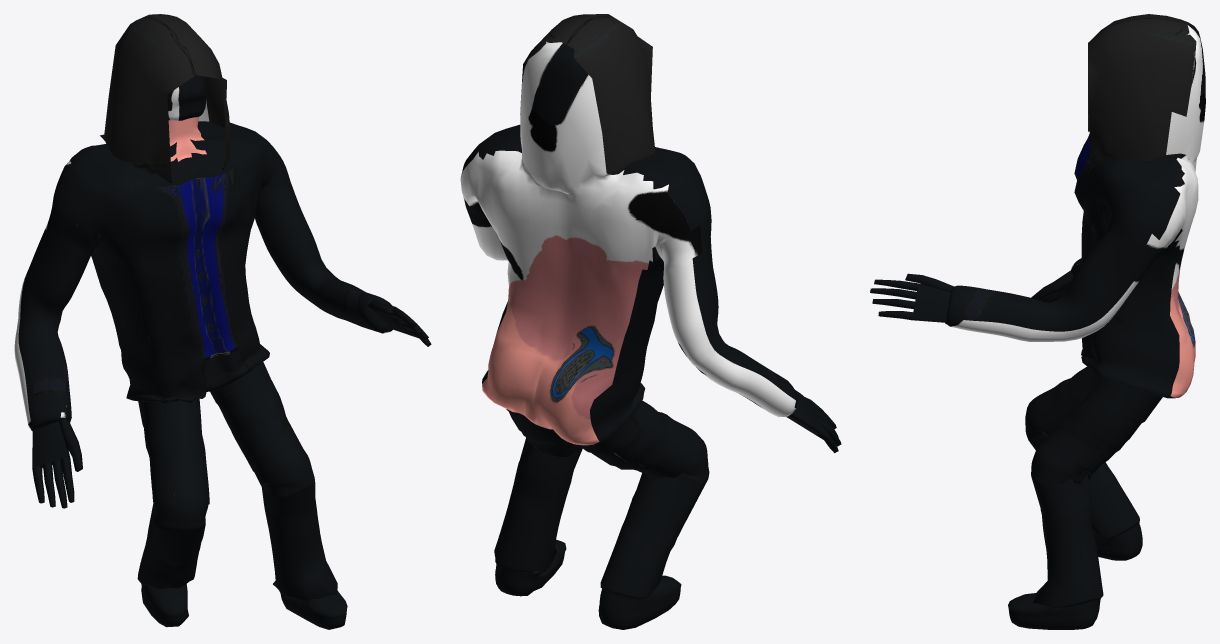
The model's file is keyFrame04.obj.
The picture shows the model from 3 angles, left to right: view 1: azimuth 30°, elevation 25°; view 2: azimuth 150°, elevation 25°; view 3: azimuth 270°, elevation 25°; orthographic projection. The views are drawn at different scales.
Parts seen in each view (by area): view 1: pasted__polySurface71 group4; view 2: pasted__polySurface71 group4; view 3: pasted__polySurface71 group4.
Boxes of the visible parts, <box> form: pasted__polySurface71 group4: <box>14,14,431,629</box>; pasted__polySurface71 group4: <box>460,14,841,629</box>; pasted__polySurface71 group4: <box>870,14,1205,629</box>.
Size of the model in its own units: 6.93 by 12.34 by 6.7.
Materials: 1 (1 with a texture image).
